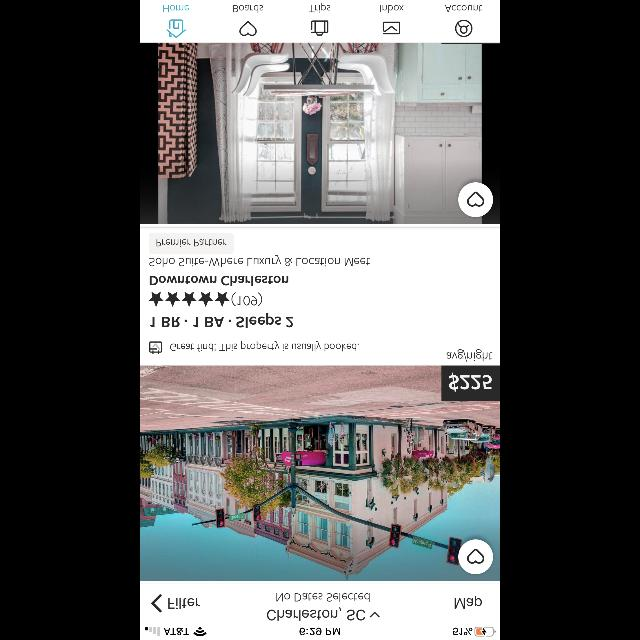icon: (458, 182, 494, 218), (458, 540, 494, 574), (148, 292, 230, 306), (166, 20, 186, 38), (456, 19, 472, 36), (240, 20, 256, 36), (312, 20, 328, 36), (384, 22, 401, 34), (152, 594, 162, 612), (150, 342, 162, 354), (370, 611, 380, 617)
image: (140, 366, 500, 580), (140, 42, 500, 224)
text: (150, 255, 370, 268), (150, 312, 294, 328), (170, 341, 360, 352), (150, 276, 288, 286), (267, 607, 365, 621), (276, 592, 369, 602), (450, 372, 492, 392), (447, 349, 493, 361), (232, 292, 262, 306), (454, 595, 482, 609), (168, 598, 200, 608), (233, 5, 263, 13), (446, 6, 482, 12), (310, 3, 330, 13), (381, 5, 404, 13), (163, 6, 189, 12)
textbutton: (150, 232, 234, 254)
uppertaskbar: (140, 626, 500, 640)
